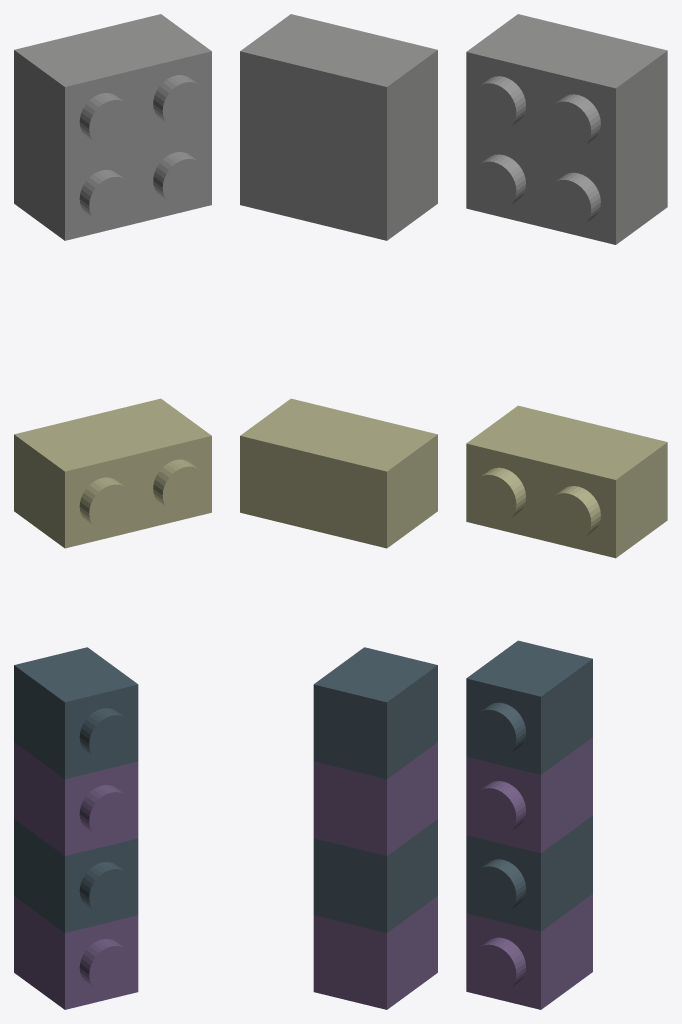
Rendered from current.glb.
3 views of the same model, side by side, from view 1: azimuth 30°, elevation 25°; view 2: azimuth 150°, elevation 25°; view 3: azimuth 330°, elevation 25° (orthographic).
Parts seen in each view (by area): view 1: world; view 2: world; view 3: world.
Part boxes in pixels (<box>): world: <box>14,14,211,1009</box>; world: <box>240,14,437,1009</box>; world: <box>466,14,667,1009</box>.
Size of the model in its own units: 16 by 96 by 11.4.
